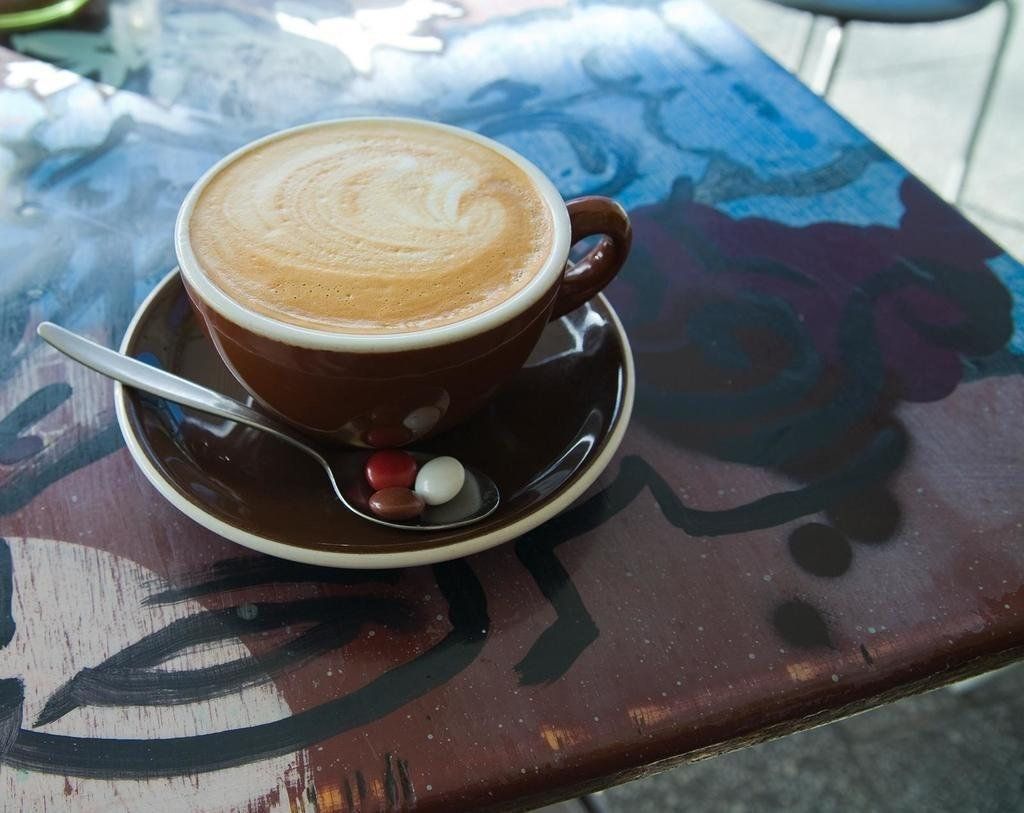cup-handle: (173, 115, 627, 456)
